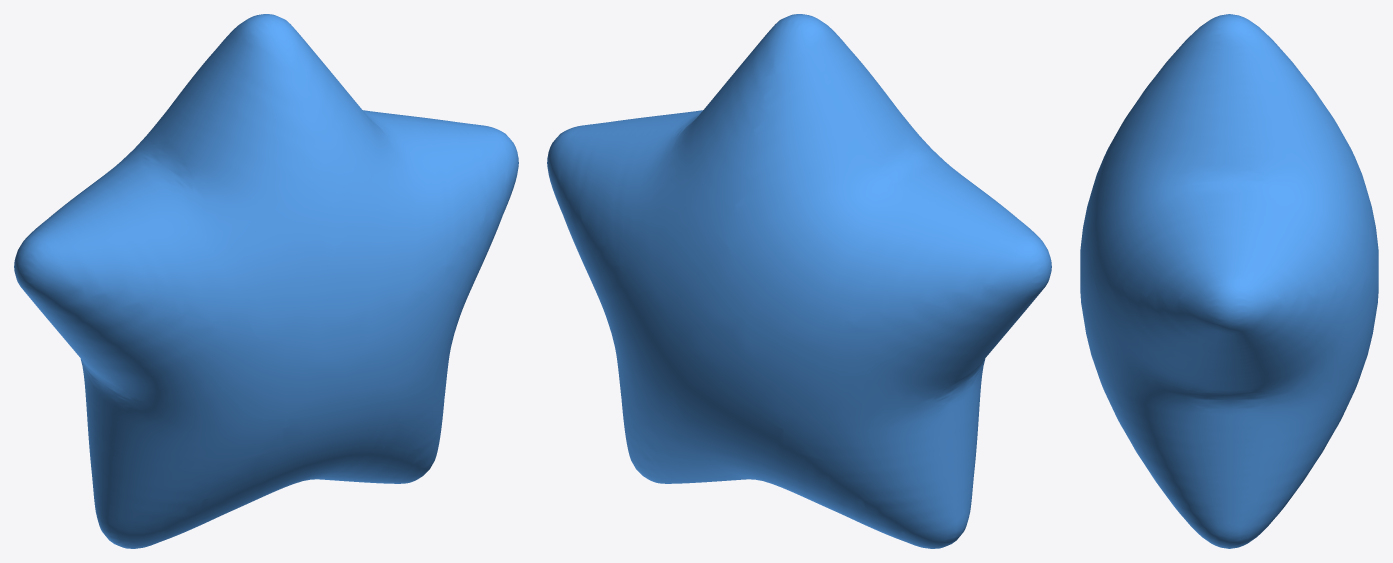
File: staryellow.glb
3 renders of one model, left to right at view 1: azimuth 30°, elevation 25°; view 2: azimuth 150°, elevation 25°; view 3: azimuth 270°, elevation 25°, orthographic. The views are drawn at different scales.
Parts seen in each view (by area): view 1: Star_2; view 2: Star_2; view 3: Star_2.
Boxes of the visible parts, bbox=[...] form: Star_2: bbox=[14, 14, 518, 548]; Star_2: bbox=[547, 14, 1051, 548]; Star_2: bbox=[1080, 14, 1378, 548].
Bounding box in the file's own units: 25.13 × 24.05 × 13.93.
